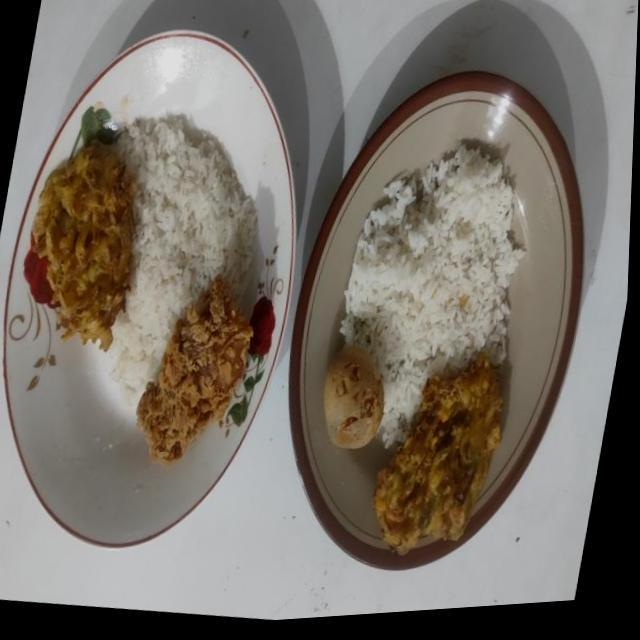nasi_putih: (340, 143, 525, 446), (110, 113, 258, 406)
